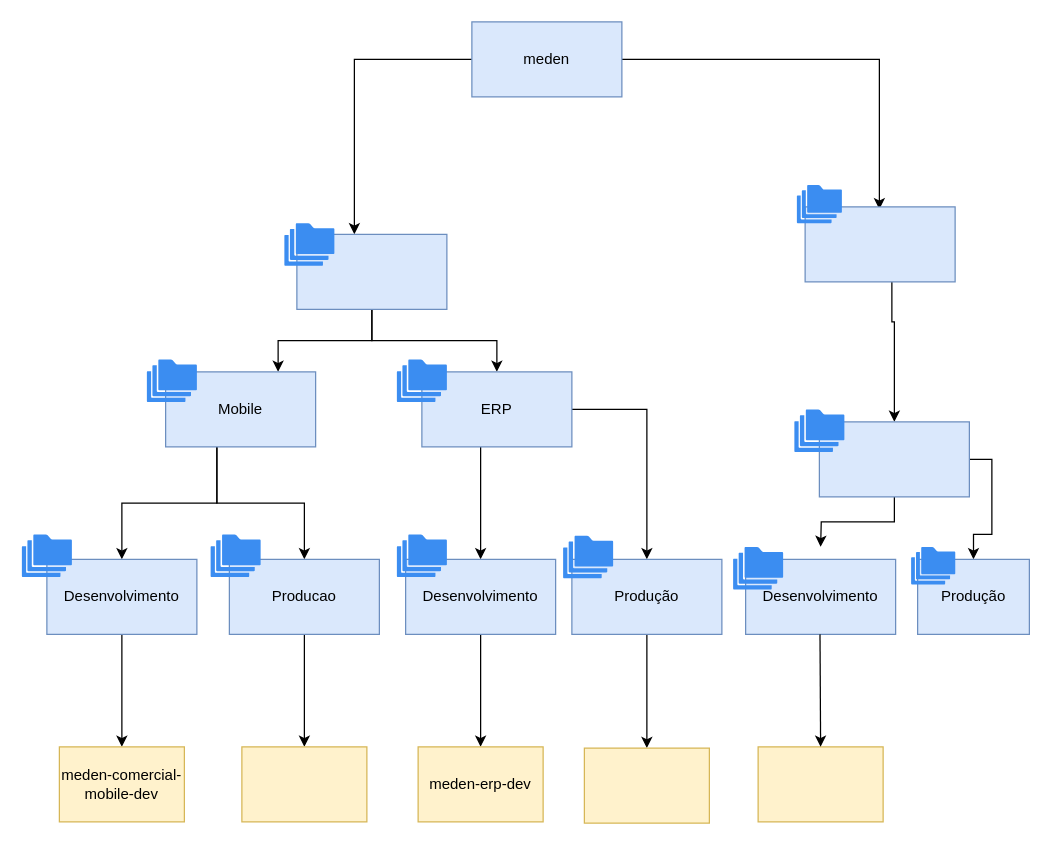
The diagram is 1051 pixels wide and 845 high, and some of its shapes have lost their labels. Each missing label, with the box of its shape:
Comercial: (296, 233, 447, 309)
Financeira: (804, 206, 955, 282)
meden-comercial-mobile-prod: (241, 746, 367, 822)
meden-erp-prod: (583, 747, 709, 823)
meden-salesforce-dev: (757, 746, 883, 822)
Sales Force: (818, 421, 969, 497)
